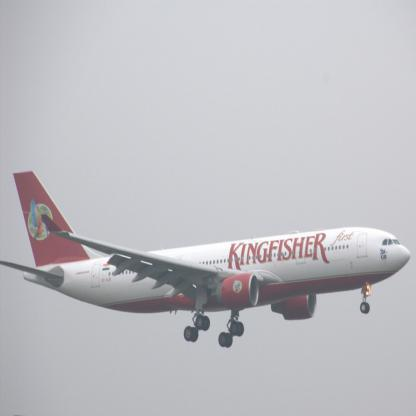CIV_Plane: (0, 170, 411, 342)
